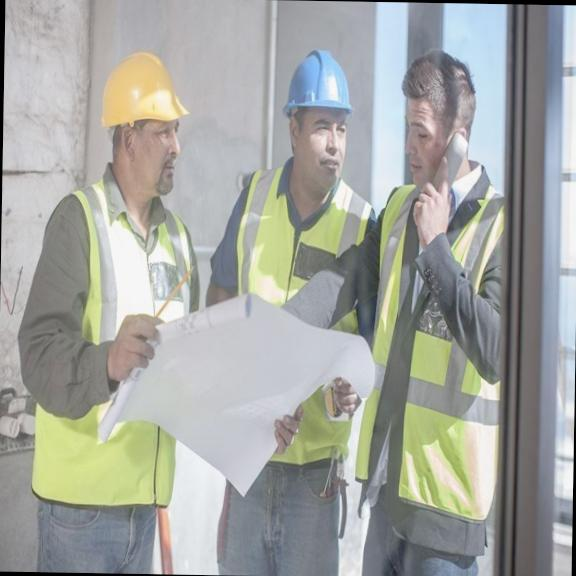safety_vest: (61, 182, 192, 514), (376, 184, 506, 516), (246, 174, 359, 332)
